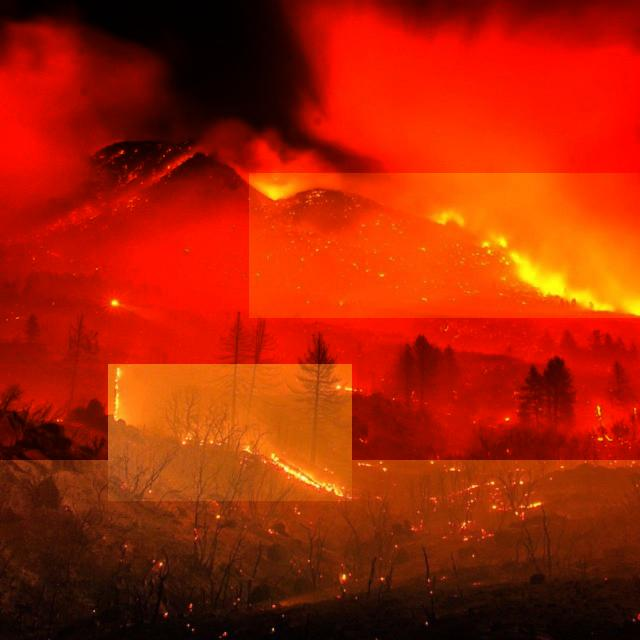Fire: (249, 173, 640, 318), (108, 364, 352, 501)
Smoke: (0, 0, 640, 460)
